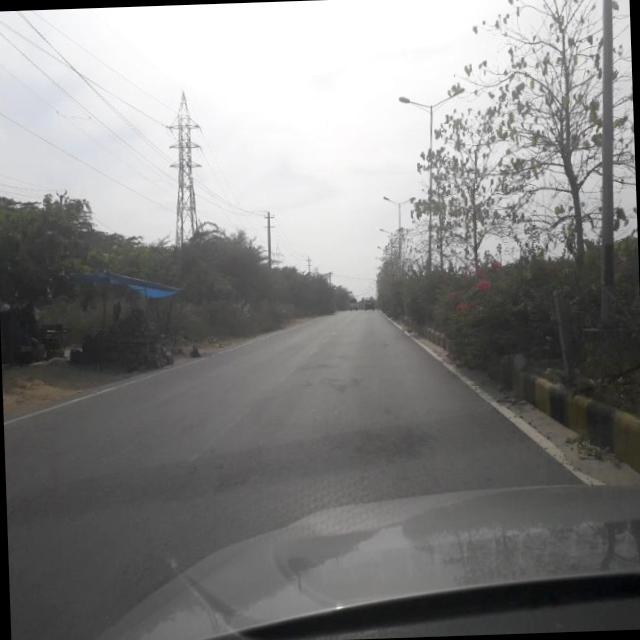crack: (349, 414, 425, 464)
